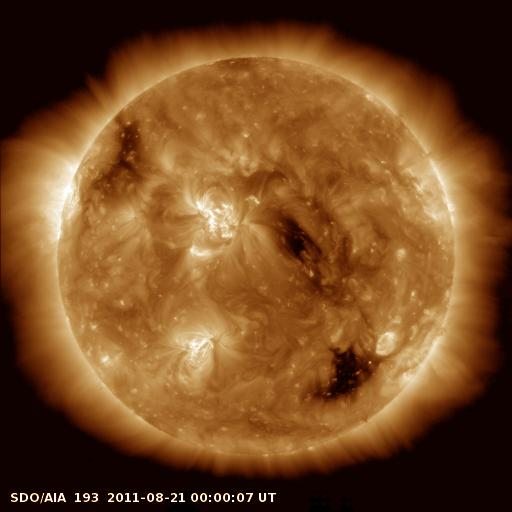coronal_hole: (312, 341, 374, 403), (271, 207, 331, 270), (92, 123, 142, 194)
